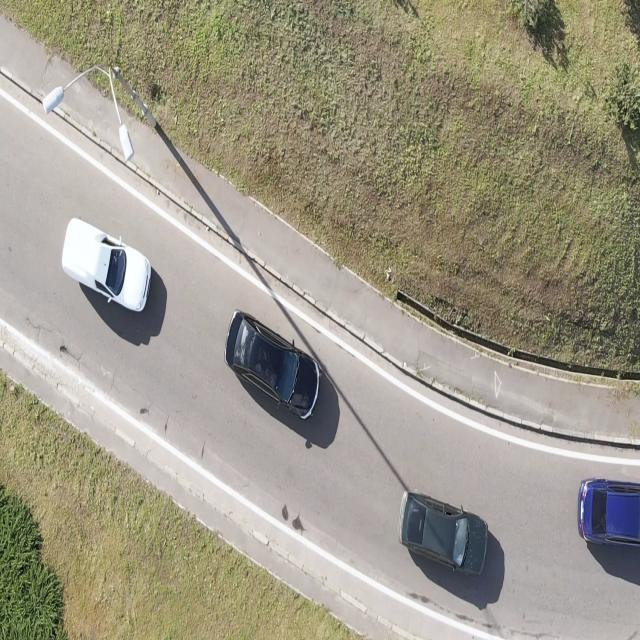vehicle: (223, 310, 322, 420), (61, 218, 152, 314), (398, 491, 488, 576), (577, 478, 640, 550)
